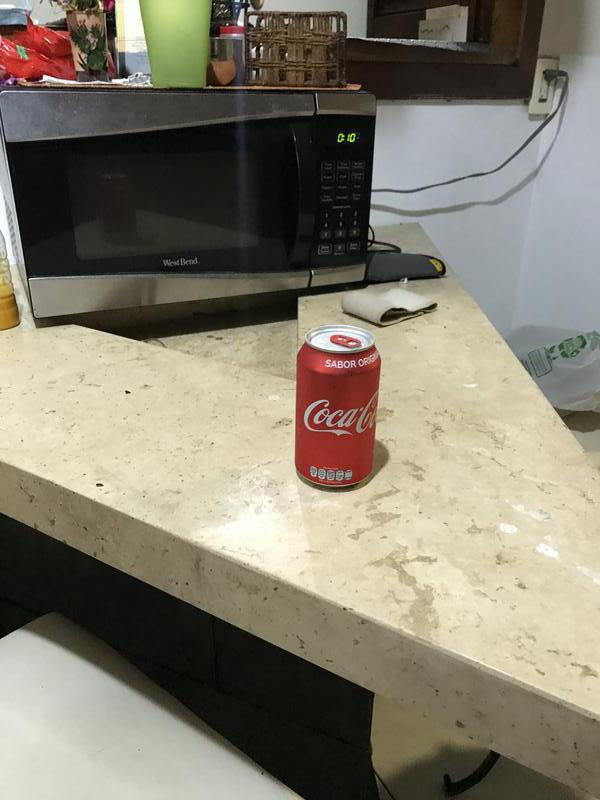coca_cola: (294, 324, 381, 488)
